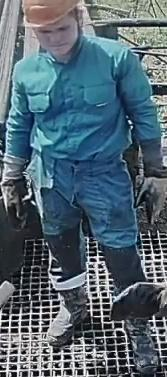gloves: (132, 151, 167, 227), (0, 157, 30, 233)
helmet: (20, 0, 81, 28)
vest: (2, 37, 143, 184)
